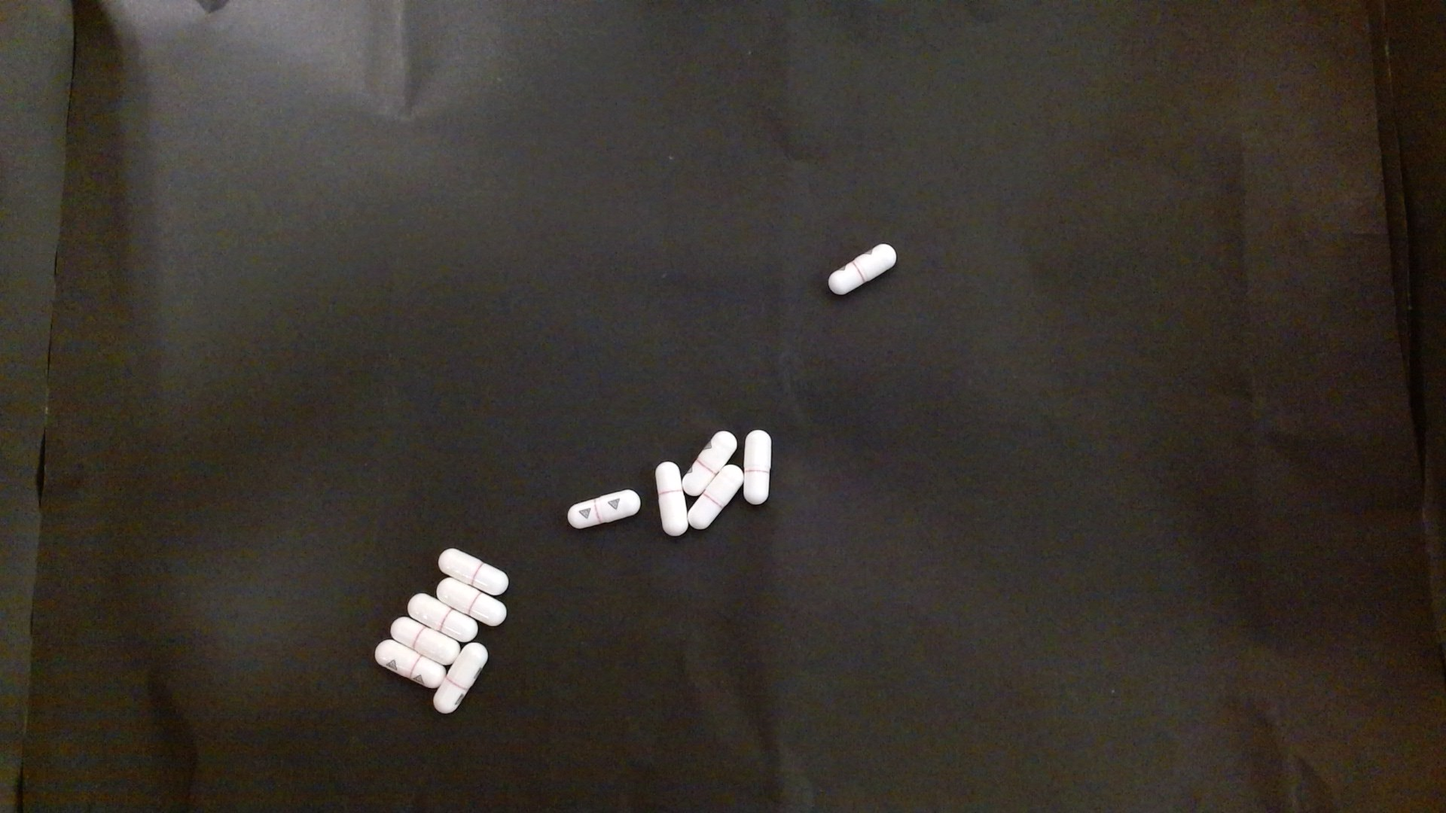Capsule: (688, 463, 743, 531), (434, 644, 488, 713), (374, 639, 447, 689), (682, 431, 736, 497), (436, 577, 508, 626), (390, 617, 462, 666), (407, 592, 477, 642), (437, 547, 508, 596), (828, 243, 895, 294), (566, 489, 638, 528), (654, 464, 688, 537), (743, 430, 771, 503)
